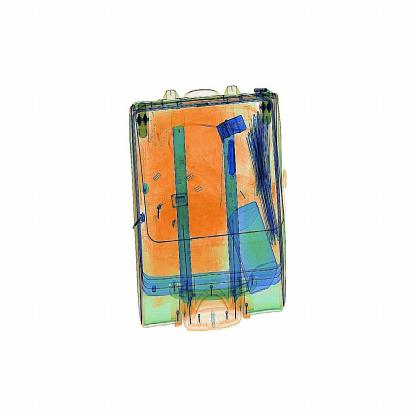knife: (215, 134, 241, 178)
